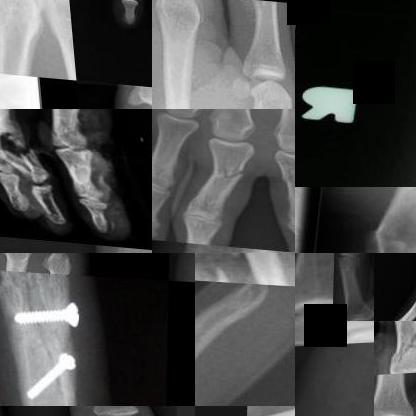fracture: (1, 291, 90, 405), (335, 344, 374, 415), (0, 112, 43, 168), (196, 149, 256, 187), (268, 143, 294, 187), (195, 256, 240, 280), (391, 324, 415, 366), (214, 253, 290, 264)
